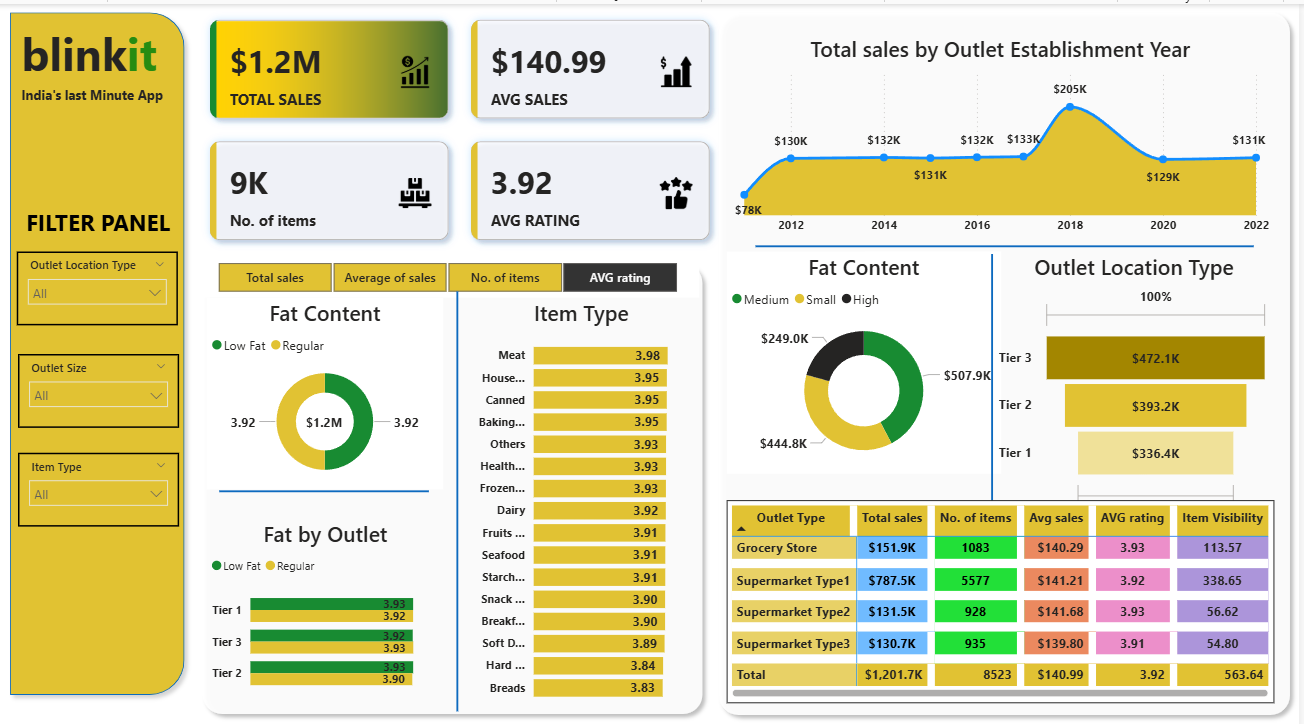

This screenshot's page, from the dashboard's own definition file:
{"tool":"powerbi","page":{"name":"Page 1","canvas":[1400,800],"ordinal":0},"visuals":[{"type":"shape","box":[10,0,205,750],"z":0},{"type":"textbox","box":[25.5,15,172.6,85.5],"z":1000},{"type":"textbox","box":[25.5,82.5,172.6,34.5],"z":2000},{"type":"cardVisual","fields":{"Data":["AMeasure.Total sales","AMeasure.Average of sales","AMeasure.No. of items","AMeasure.AVG rating"]},"box":[216.1,0,570.3,270.2],"z":3000},{"type":"shape","box":[216,270,554,501],"z":4000},{"type":"donutChart","title":" Fat Content","fields":{"Y":["AMeasure.AVG rating"],"Category":["BlinkIT Grocery Data.Item Fat Content"]},"box":[229.6,315.2,253.6,205.6],"z":5000},{"type":"slicer","fields":{"Values":["Metrics.Metrics"]},"box":[215.8,270.8,541.6,44.2],"z":6000},{"type":"card","fields":{"Values":["AMeasure.Total sales"]},"box":[309.2,435.3,91.6,30],"z":7000},{"type":"clusteredBarChart","title":"Fat by Outlet","fields":{"Y":["AMeasure.AVG rating"],"Category":["BlinkIT Grocery Data.Outlet Location Type"],"Series":["BlinkIT Grocery Data.Item Fat Content"]},"box":[229.2,552.3,254.7,198.4],"z":8000},{"type":"shape","box":[243.1,511.8,225.1,21],"z":9000},{"type":"shape","box":[492.3,307.7,12,450.3],"z":10000},{"type":"barChart","title":"Item Type","fields":{"Y":["AMeasure.AVG rating"],"Category":["BlinkIT Grocery Data.Item Type"]},"box":[504.3,315.2,253.6,442.8],"z":11000},{"type":"shape","box":[769.9,0,630.4,771.4],"z":12000},{"type":"areaChart","fields":{"Category":["BlinkIT Grocery Data.Outlet Establishment Year"],"Y":["AMeasure.Total sales"]},"box":[786.5,31.5,586.8,223.6],"z":13000},{"type":"donutChart","title":" Fat Content","fields":{"Y":["AMeasure.Total sales"],"Category":["BlinkIT Grocery Data.Outlet Size"]},"box":[786.5,265.7,294.2,238.6],"z":14000},{"type":"funnel","title":"Outlet Location Type","fields":{"Category":["BlinkIT Grocery Data.Outlet Location Type"],"Y":["AMeasure.Total sales"]},"box":[1073.1,265.7,300.2,300.2],"z":15000},{"type":"shape","box":[818,249.1,534.3,21],"z":16000},{"type":"shape","box":[1061.1,268.7,19.5,283.7],"z":17000},{"type":"pivotTable","fields":{"Rows":["BlinkIT Grocery Data.Outlet Type"],"Values":["AMeasure.Total sales","AMeasure.No. of items","AMeasure.Average of sales","AMeasure.AVG rating","Sum(BlinkIT Grocery Data.Item Visibility)"]},"box":[786.5,532.8,586.8,217.6],"z":18000},{"type":"slicer","fields":{"Values":["BlinkIT Grocery Data.Outlet Location Type"]},"box":[25.5,265.7,172.6,79.5],"z":19000},{"type":"slicer","fields":{"Values":["BlinkIT Grocery Data.Outlet Size"]},"box":[27,375.2,172.6,79.5],"z":20000},{"type":"slicer","fields":{"Values":["BlinkIT Grocery Data.Item Type"]},"box":[27,481.8,172.6,79.5],"z":21000},{"type":"textbox","box":[30.8,213.1,164.9,42.9],"z":22000}]}

Visuals, with their boxes in screenshot pixels (x1, y1, x2, y2), scaled from the page's 1400x800 canvas onto the 1304x724 screenshot:
shape: box(9, 0, 200, 679)
textbox: box(24, 14, 185, 91)
textbox: box(24, 75, 185, 106)
cardVisual - AMeasure.Total sales x AMeasure.Average of sales: box(201, 0, 732, 245)
shape: box(201, 244, 717, 698)
" Fat Content" donutChart: box(214, 285, 450, 471)
slicer - Metrics.Metrics: box(201, 245, 705, 285)
card - AMeasure.Total sales: box(288, 394, 373, 421)
"Fat by Outlet" clusteredBarChart: box(213, 500, 451, 679)
shape: box(226, 463, 436, 482)
shape: box(459, 278, 470, 686)
"Item Type" barChart: box(470, 285, 706, 686)
shape: box(717, 0, 1303, 698)
areaChart - BlinkIT Grocery Data.Outlet Establishment Year x AMeasure.Total sales: box(733, 29, 1279, 231)
" Fat Content" donutChart: box(733, 240, 1007, 456)
"Outlet Location Type" funnel: box(1000, 240, 1279, 512)
shape: box(762, 225, 1260, 244)
shape: box(988, 243, 1007, 500)
pivotTable - BlinkIT Grocery Data.Outlet Type x AMeasure.Total sales: box(733, 482, 1279, 679)
slicer - BlinkIT Grocery Data.Outlet Location Type: box(24, 240, 185, 312)
slicer - BlinkIT Grocery Data.Outlet Size: box(25, 340, 186, 412)
slicer - BlinkIT Grocery Data.Item Type: box(25, 436, 186, 508)
textbox: box(29, 193, 182, 232)
